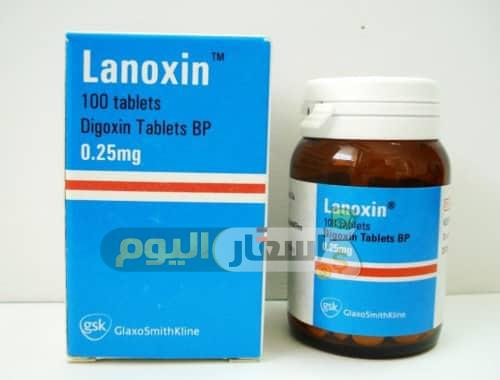Medicine: (58, 24, 268, 367), (293, 68, 453, 357)
